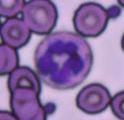N: (34, 30, 92, 88)
